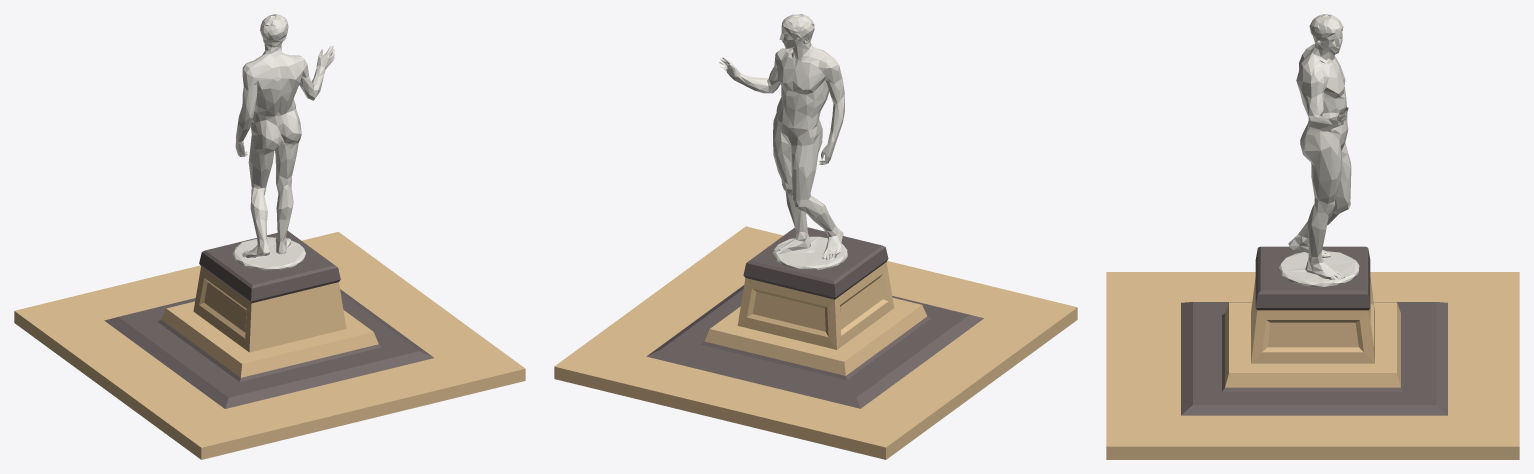
The model's file is Statue.fbx.
The picture shows the model from 3 angles, left to right: view 1: azimuth 30°, elevation 25°; view 2: azimuth 150°, elevation 25°; view 3: azimuth 270°, elevation 25°; orthographic projection. The views are drawn at different scales.
Parts seen in each view (by area): view 1: Statue; view 2: Statue; view 3: Statue.
Part boxes in pixels (x1,y1,x2,y2): Statue: [14, 14, 525, 459]; Statue: [554, 14, 1077, 459]; Statue: [1106, 14, 1519, 459].
Size of the model in its own units: 274 by 265 by 274.
